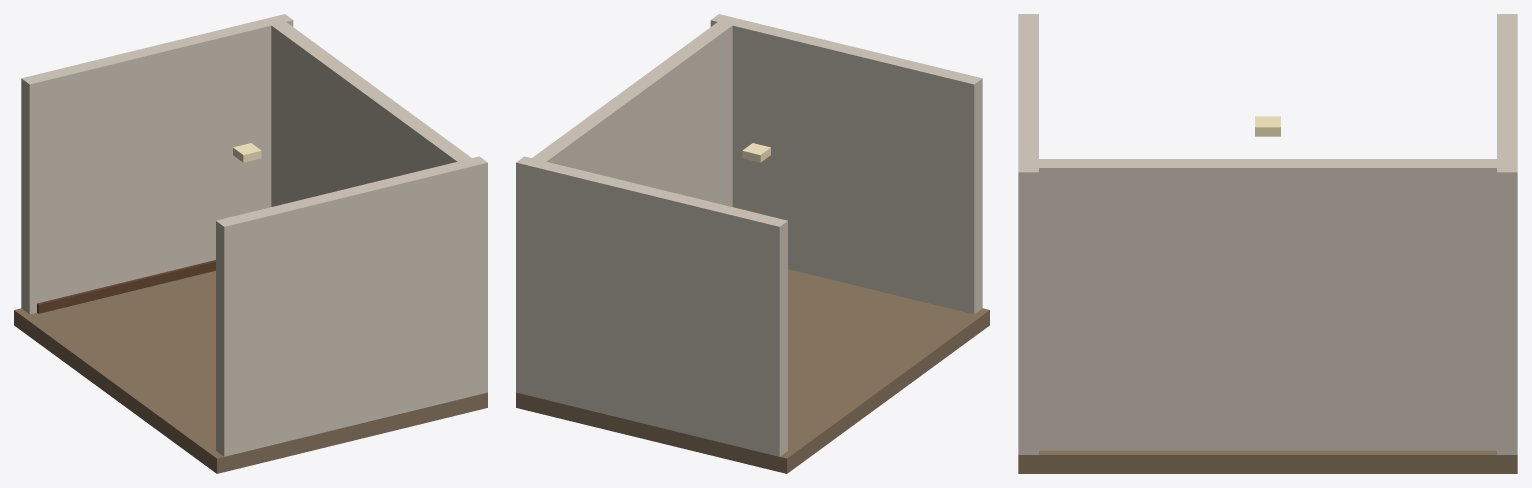
Rendered from back-room.glb.
The picture shows the model from 3 angles, left to right: view 1: azimuth 30°, elevation 25°; view 2: azimuth 150°, elevation 25°; view 3: azimuth 270°, elevation 25°; orthographic projection. The views are drawn at different scales.
Visible parts, largest first — view 1: wall-south, wall-north, floor, wall-east, skirting; view 2: wall-north, wall-south, floor, wall-east; view 3: wall-east, floor, wall-north, wall-south, lamp.
Boxes of the visible parts, x1,y1,x2,y2 form: wall-south: [216, 156, 487, 456]; wall-north: [21, 14, 293, 314]; floor: [14, 270, 487, 473]; wall-east: [263, 16, 480, 397]; skirting: [37, 260, 215, 313]; wall-north: [516, 156, 787, 456]; wall-south: [710, 14, 982, 314]; floor: [516, 269, 989, 473]; wall-east: [523, 16, 740, 397]; wall-east: [1018, 159, 1517, 450]; floor: [1018, 450, 1517, 473]; wall-north: [1497, 14, 1517, 454]; wall-south: [1018, 14, 1038, 454]; lamp: [1255, 116, 1280, 136].
Size of the model in its own units: 3.7 by 3.2 by 4.8.
